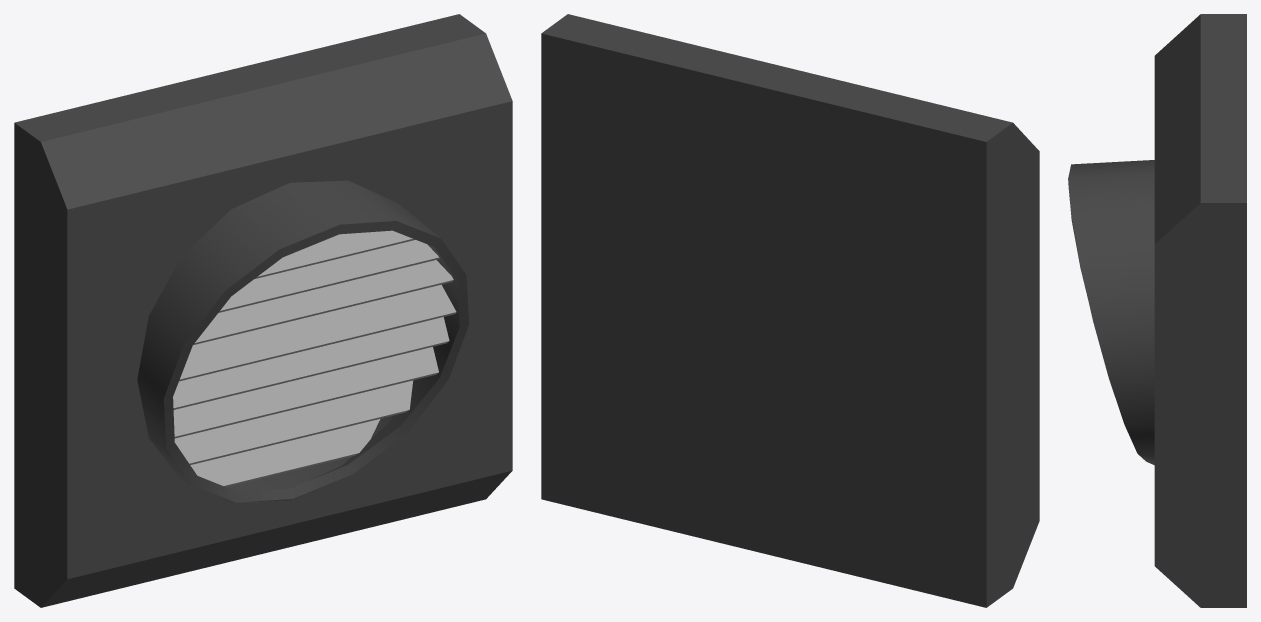
File: WallVent_01.fbx
The picture shows the model from 3 angles, left to right: view 1: azimuth 30°, elevation 25°; view 2: azimuth 150°, elevation 25°; view 3: azimuth 270°, elevation 25°; orthographic projection. The views are drawn at different scales.
Parts seen in each view (by area): view 1: WallVent_01; view 2: WallVent_01; view 3: WallVent_01.
Boxes of the visible parts, x1,y1,x2,y2 form: WallVent_01: (14, 14, 512, 607); WallVent_01: (541, 14, 1039, 607); WallVent_01: (1068, 14, 1246, 607).
Bounding box in the file's own units: 418 × 418 × 167.
